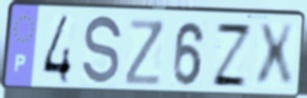4: (40, 13, 75, 88)
6: (171, 20, 207, 88)
S: (80, 13, 124, 89)
X: (255, 22, 297, 91)
Z: (209, 21, 255, 90), (124, 18, 166, 88)
